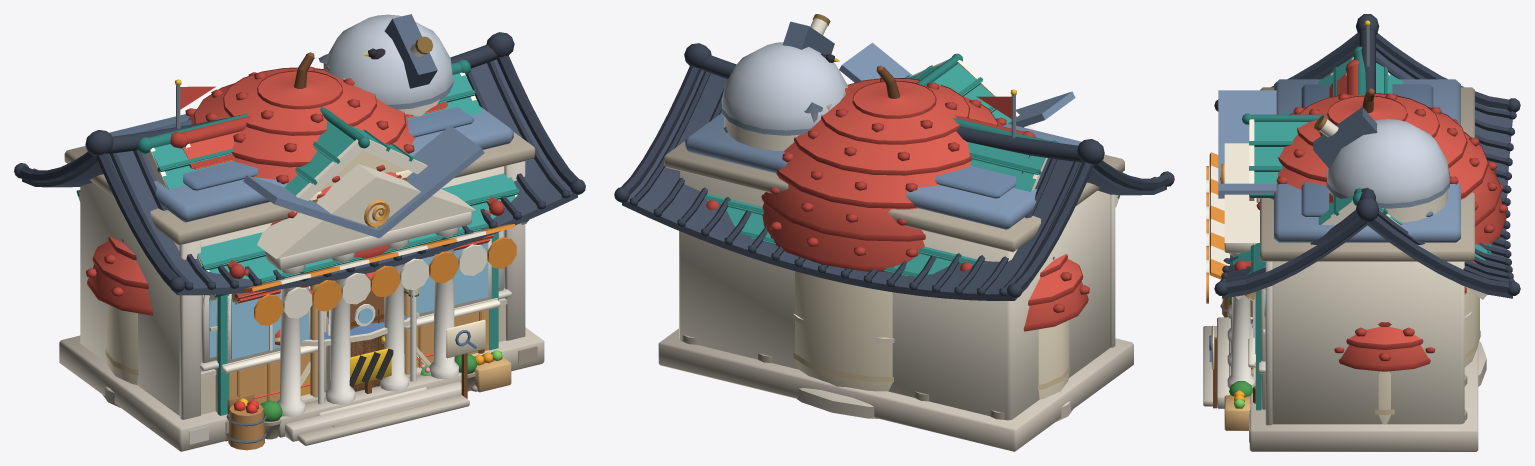
The model's file is buildings.glb.
3 renders of one model, left to right at view 1: azimuth 30°, elevation 25°; view 2: azimuth 150°, elevation 25°; view 3: azimuth 270°, elevation 25°, orthographic. The views are drawn at different scales.
Parts seen in each view (by area): view 1: museum, shop, hall, home_3, house_a, tent_museum, house_b, site; view 2: museum, home_3, hall, shop; view 3: museum, hall, home_3, shop, house_b, tent_museum, house_a.
Part boxes in pixels (x1,y1,x2,y2): museum: (64,14,535,445); shop: (76,48,528,450); hall: (14,32,585,451); home_3: (86,52,430,407); house_a: (177,66,490,404); tent_museum: (225,312,485,441); house_b: (170,101,494,397); site: (238,348,484,398); museum: (664,14,1124,420); home_3: (761,65,1089,421); hall: (614,43,1174,451); shop: (704,53,1120,276); museum: (1203,20,1474,425); hall: (1214,14,1520,451); home_3: (1251,88,1507,424); shop: (1206,46,1491,430); house_b: (1246,60,1466,369); tent_museum: (1209,311,1471,408); house_a: (1245,62,1357,302).
Bounding box in the file's own units: 6.64 × 5.73 × 4.58.
